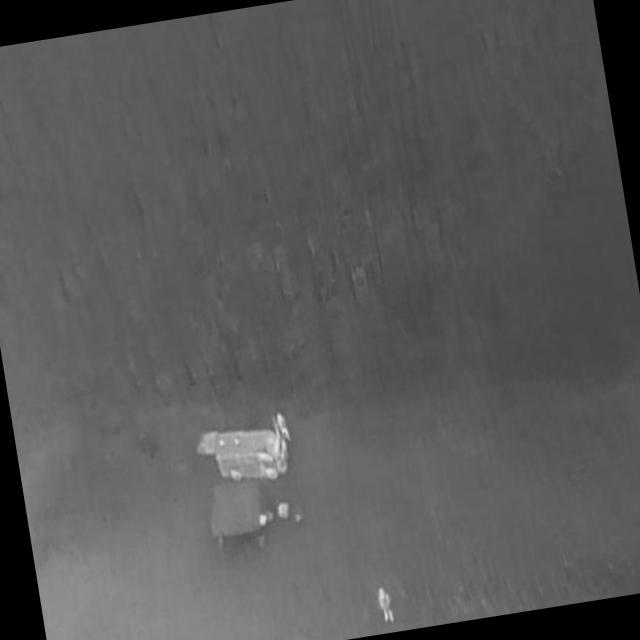person: (377, 587, 395, 627), (275, 412, 293, 446)
